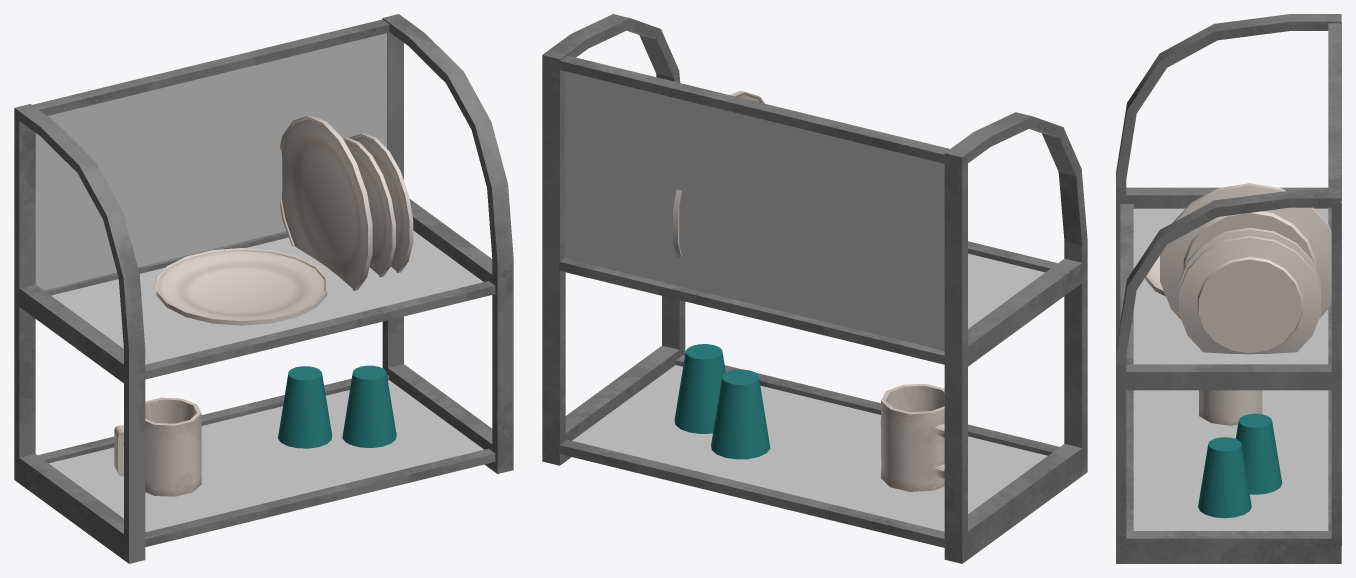
Rendered from Kitchen_DishRack.fbx.
3 renders of one model, left to right at view 1: azimuth 30°, elevation 25°; view 2: azimuth 150°, elevation 25°; view 3: azimuth 270°, elevation 25°, orthographic. The views are drawn at different scales.
Visible parts, largest first — view 1: Plane003, DishRack001, Plane002, DishRack, Plane001, Plate015, Plate018, Mug, Box003, Box008, Box007, Cup001 (+5 smaller); view 2: Plane003, DishRack001, Plane002, DishRack, Mug, Box007, Box009, Box006, Cup001, Cup, Plane001, Box008 (+2 smaller); view 3: DishRack, Plane002, Plate017, Plane001, DishRack001, Plate015, Cup, Cup001, Box007, Mug, Box003, Plate016 (+4 smaller).
Boxes of the visible parts, box(x1,y1,x2,y2) form: Plane003: box(35, 33, 387, 290); DishRack001: box(14, 104, 145, 563); Plane002: box(49, 380, 483, 532); DishRack: box(382, 14, 513, 473); Plane001: box(51, 230, 483, 364); Plate015: box(280, 115, 372, 290); Plate018: box(156, 248, 327, 325); Mug: box(114, 397, 201, 496); Box003: box(145, 281, 495, 379); Box008: box(145, 448, 495, 546); Box007: box(32, 19, 389, 115); Cup001: box(278, 366, 332, 448); Plane003: box(564, 71, 944, 350); DishRack001: box(944, 112, 1087, 563); Plane002: box(572, 365, 1047, 531); DishRack: box(542, 14, 685, 465); Mug: box(880, 383, 944, 491); Box007: box(559, 55, 949, 163); Box009: box(559, 439, 945, 548); Box006: box(559, 258, 945, 364); Cup001: box(711, 369, 770, 459); Cup: box(674, 344, 725, 433); Plane001: box(968, 253, 1044, 328); Box008: box(675, 355, 1059, 455); DishRack: box(1116, 190, 1341, 563); Plane002: box(1133, 390, 1328, 530); Plate017: box(1179, 236, 1320, 354); Plane001: box(1133, 208, 1328, 364); DishRack001: box(1116, 14, 1341, 347); Plate015: box(1160, 183, 1331, 319); Cup: box(1198, 437, 1251, 518); Cup001: box(1235, 413, 1282, 494); Box007: box(1328, 23, 1341, 200); Mug: box(1199, 390, 1262, 425); Box003: box(1120, 204, 1133, 364); Plate016: box(1179, 227, 1320, 289).
Bounding box in the file's own units: 489 × 452 × 253.
